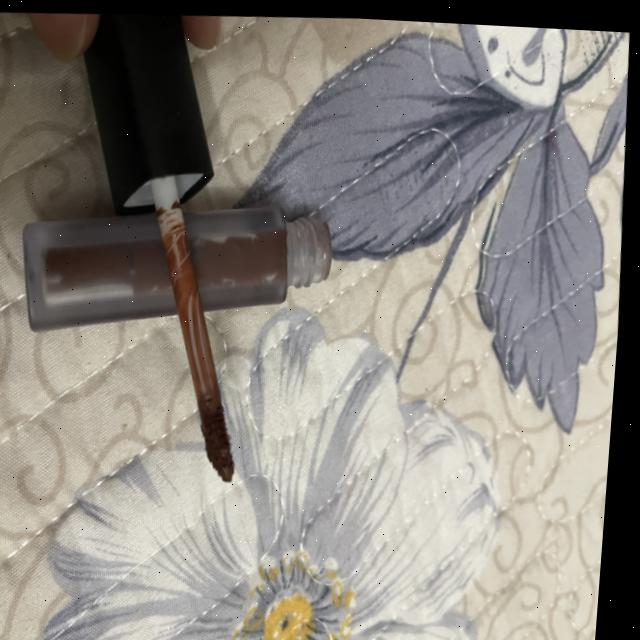lip gloss: (5, 185, 356, 349)
